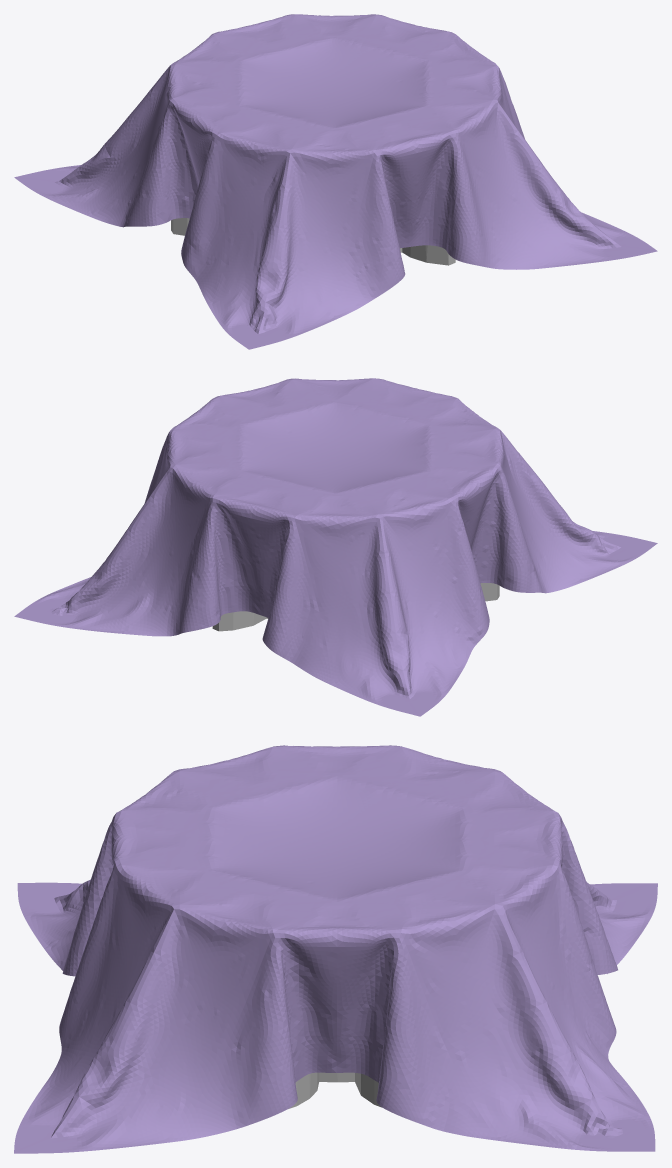
Rendered from level_3.glb.
3 renders of one model, top to bottom at view 1: azimuth 30°, elevation 25°; view 2: azimuth 150°, elevation 25°; view 3: azimuth 270°, elevation 25°, orthographic. The views are drawn at different scales.
Visible parts, largest first — view 1: world, object.obj; view 2: world, object.obj; view 3: world, object.obj.
Boxes of the visible parts, bbox=[...] form: world: bbox=[14, 14, 657, 349]; object.obj: bbox=[171, 218, 455, 265]; world: bbox=[14, 378, 657, 716]; object.obj: bbox=[212, 583, 499, 631]; world: bbox=[14, 745, 657, 1153]; object.obj: bbox=[288, 1072, 381, 1108].
Size of the model in its own units: 0.5046 by 0.1564 by 0.5071.
